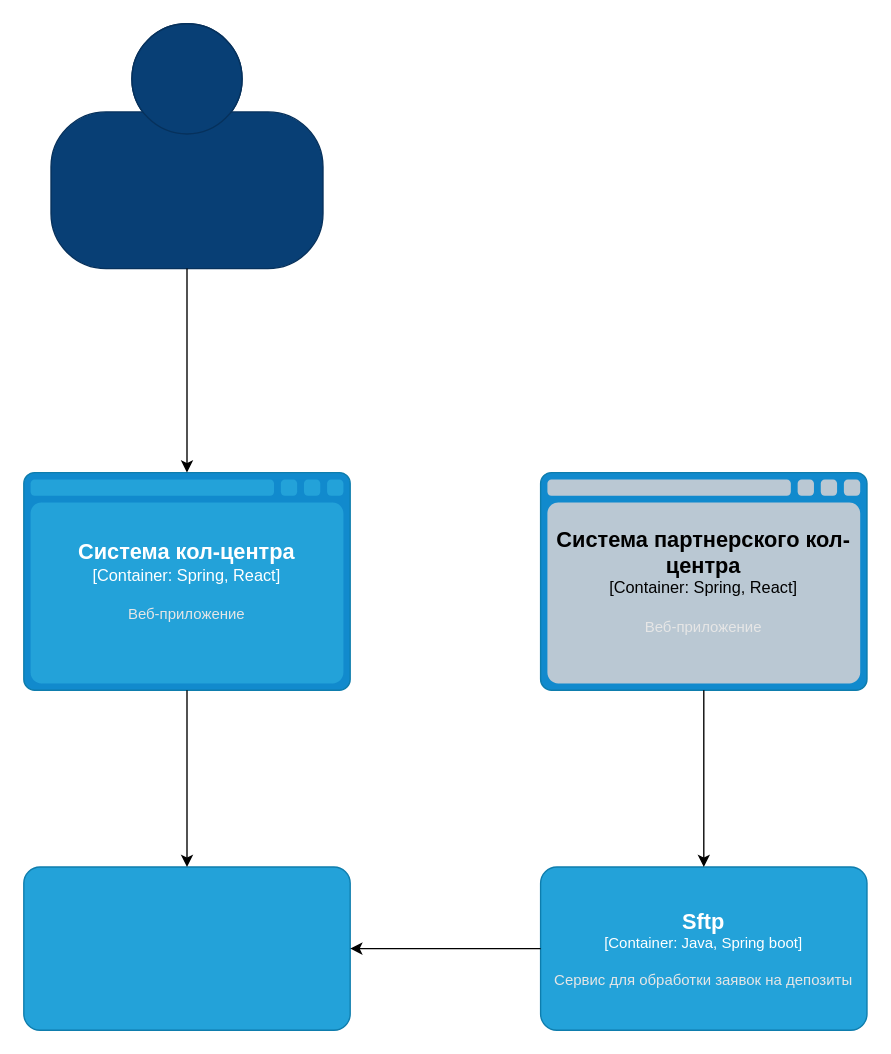
Some shapes in this 891 by 1054 pixel diagram are drawn without their labels. Here are the shapes that lost their labels. From the top down, the centre of each, then its label:
At (186,145): "Сотрудник банка [Person] Сотрудник банка".
At (186,948): "Online-deposit [Container: Java/Spring] Монолит интернет-банка".
